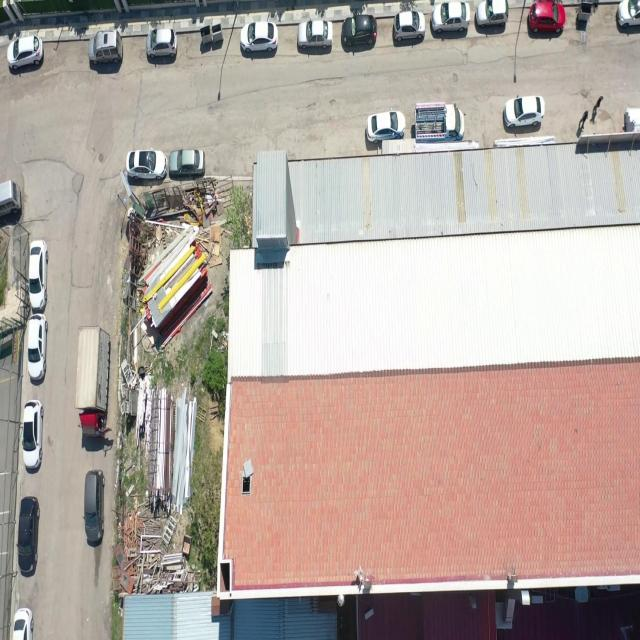p3rson: (593, 95, 603, 114), (579, 110, 588, 129)
